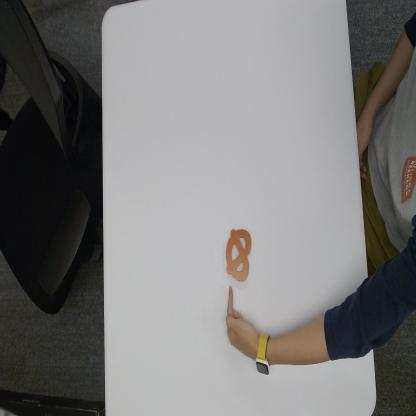Arm: (276, 283, 372, 377)
Hand: (222, 286, 260, 357)
Pretzel: (223, 224, 255, 285)
